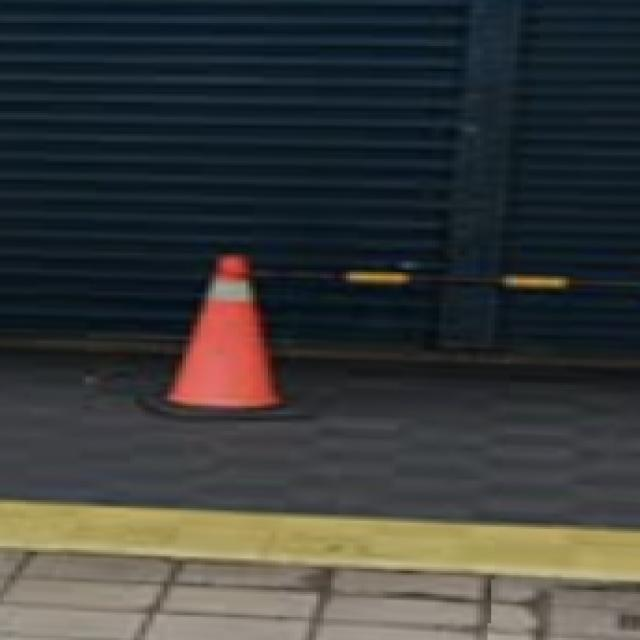cone: (137, 243, 287, 417)
